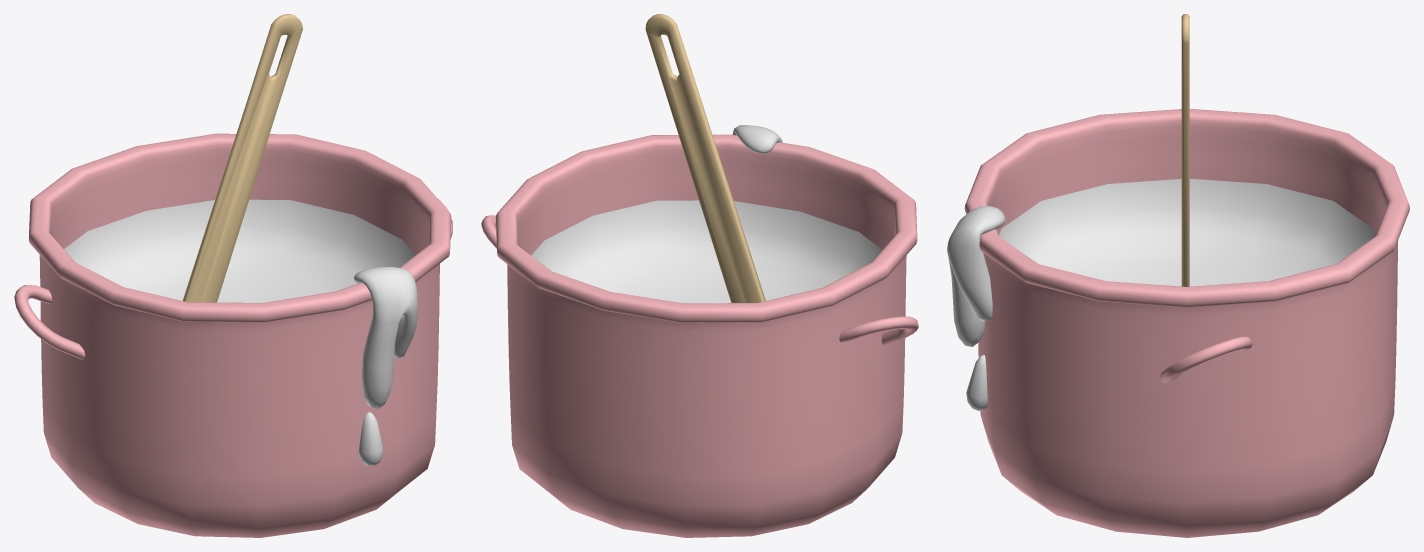
3 views of the same model, side by side, from view 1: azimuth 30°, elevation 25°; view 2: azimuth 150°, elevation 25°; view 3: azimuth 270°, elevation 25° (orthographic). The views are drawn at different scales.
Visible parts, largest first — view 1: pCube4, pCube7, Spoon, GlueDrip1, pCylinder6, GlueDrip2; view 2: pCube4, pCube7, Spoon, pCylinder6, GlueDrip1; view 3: pCube4, pCube7, GlueDrip1, Spoon, pCylinder6, GlueDrip2.
Boxes of the visible parts, x1,y1,x2,y2 form: pCube4: [28, 133, 451, 537]; pCube7: [64, 199, 415, 302]; Spoon: [182, 14, 302, 302]; GlueDrip1: [354, 267, 417, 409]; pCylinder6: [14, 199, 452, 359]; GlueDrip2: [358, 412, 383, 465]; pCube4: [495, 134, 917, 537]; pCube7: [531, 200, 881, 303]; Spoon: [645, 14, 765, 302]; pCylinder6: [481, 215, 918, 344]; GlueDrip1: [732, 125, 782, 153]; pCube4: [964, 109, 1409, 537]; pCube7: [999, 178, 1375, 286]; GlueDrip1: [947, 206, 1005, 346]; Spoon: [1181, 14, 1189, 286]; pCylinder6: [1160, 336, 1252, 383]; GlueDrip2: [966, 355, 987, 410].
Size of the model in its own units: 0.0191 by 0.0199 by 0.0169.
